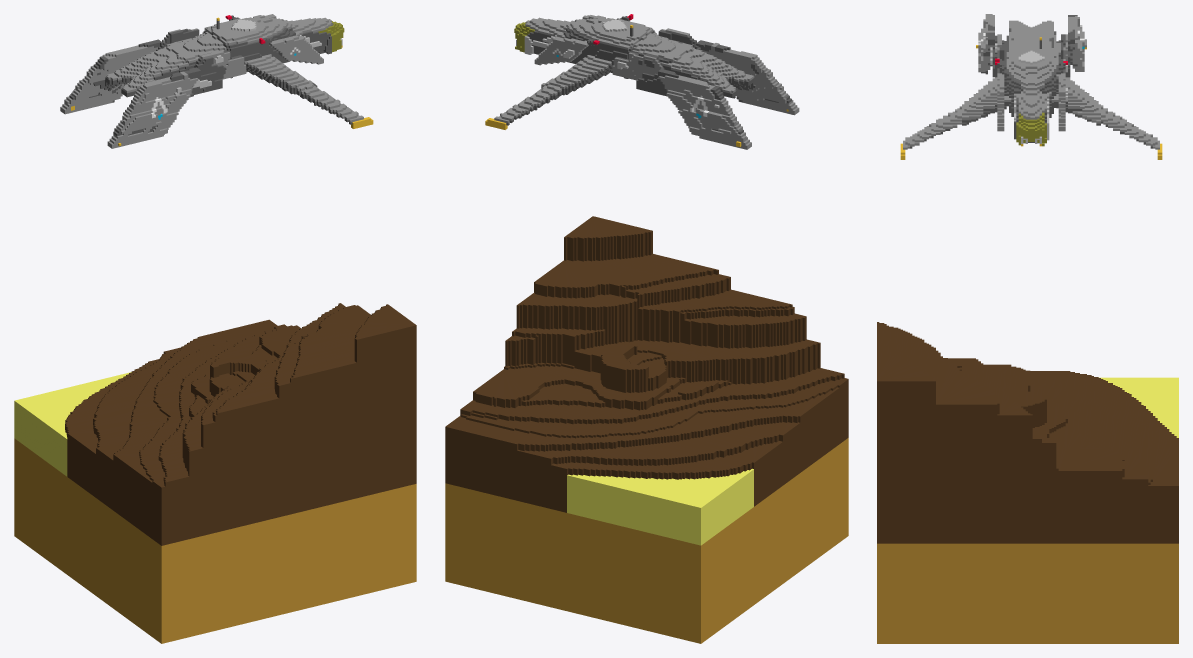
3 renders of one model, left to right at view 1: azimuth 30°, elevation 25°; view 2: azimuth 150°, elevation 25°; view 3: azimuth 270°, elevation 25°, orthographic. The views are drawn at different scales.
Visible parts, largest first — view 1: 3O; view 2: 3O; view 3: 3O.
Boxes of the visible parts, x1,y1,x2,y2 form: 3O: (14, 14, 416, 643); 3O: (445, 14, 848, 643); 3O: (877, 14, 1178, 643).
Bounding box in the file's own units: 12.8 × 25.6 × 12.8.
Materials: 1 (1 with a texture image).
